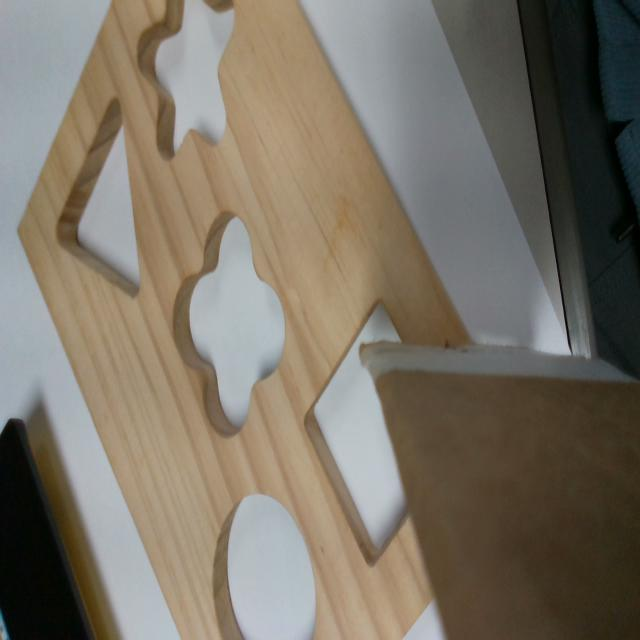circle: (212, 493, 315, 639)
flower: (171, 213, 285, 439)
square: (302, 300, 411, 570)
star: (139, 2, 235, 159)
triangle: (55, 92, 142, 302)
